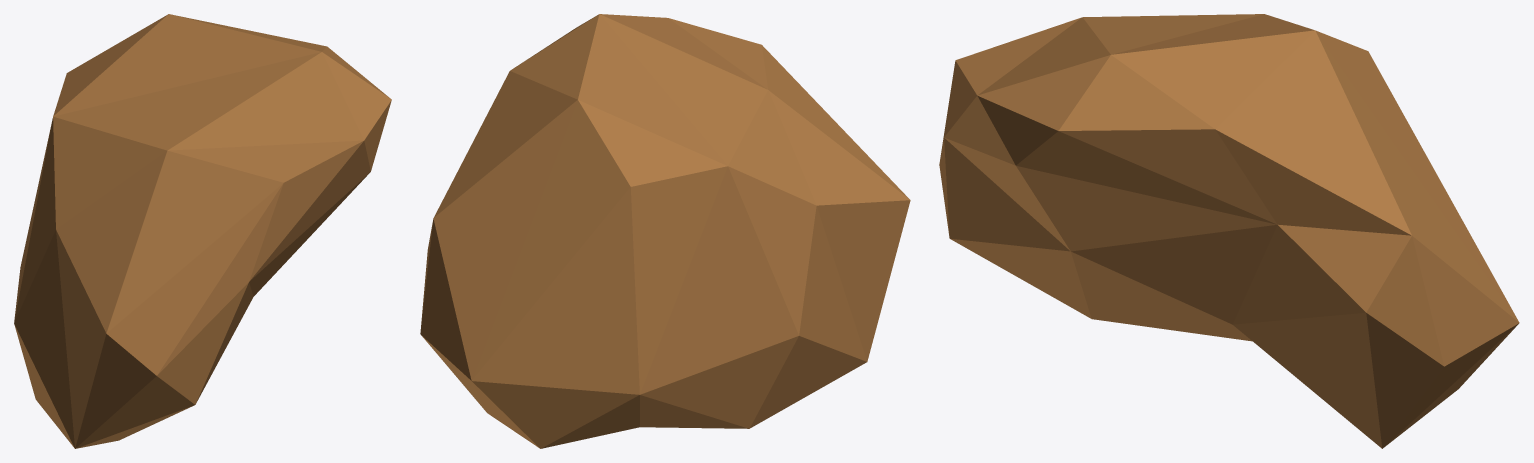
File: Rock_C_001.fbx
3 views of the same model, side by side, from view 1: azimuth 30°, elevation 25°; view 2: azimuth 150°, elevation 25°; view 3: azimuth 270°, elevation 25° (orthographic). The views are drawn at different scales.
Visible parts, largest first — view 1: Rock C.001; view 2: Rock C.001; view 3: Rock C.001.
Part boxes in pixels (box(x1,y1,x2,y2)): Rock C.001: box(14, 14, 391, 448); Rock C.001: box(420, 14, 910, 448); Rock C.001: box(939, 14, 1519, 448).
Bounding box in the file's own units: 31.65 × 29.76 × 39.73.
